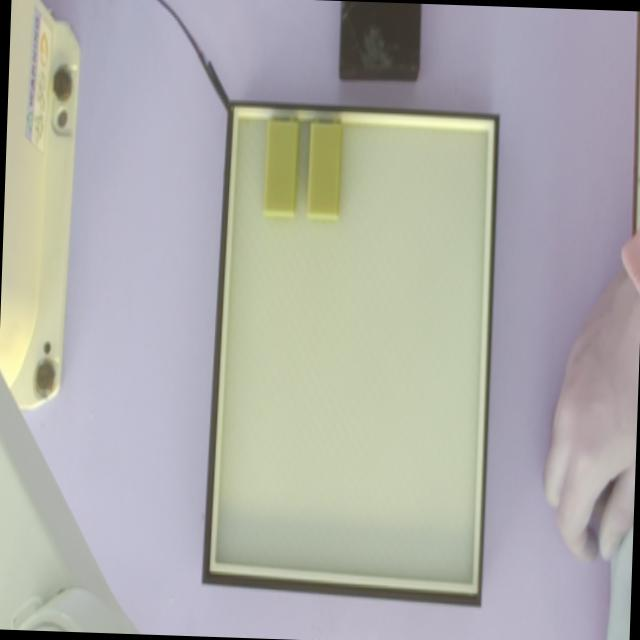bateria: (306, 118, 341, 220), (263, 117, 298, 219)
mesa: (201, 100, 500, 607)
